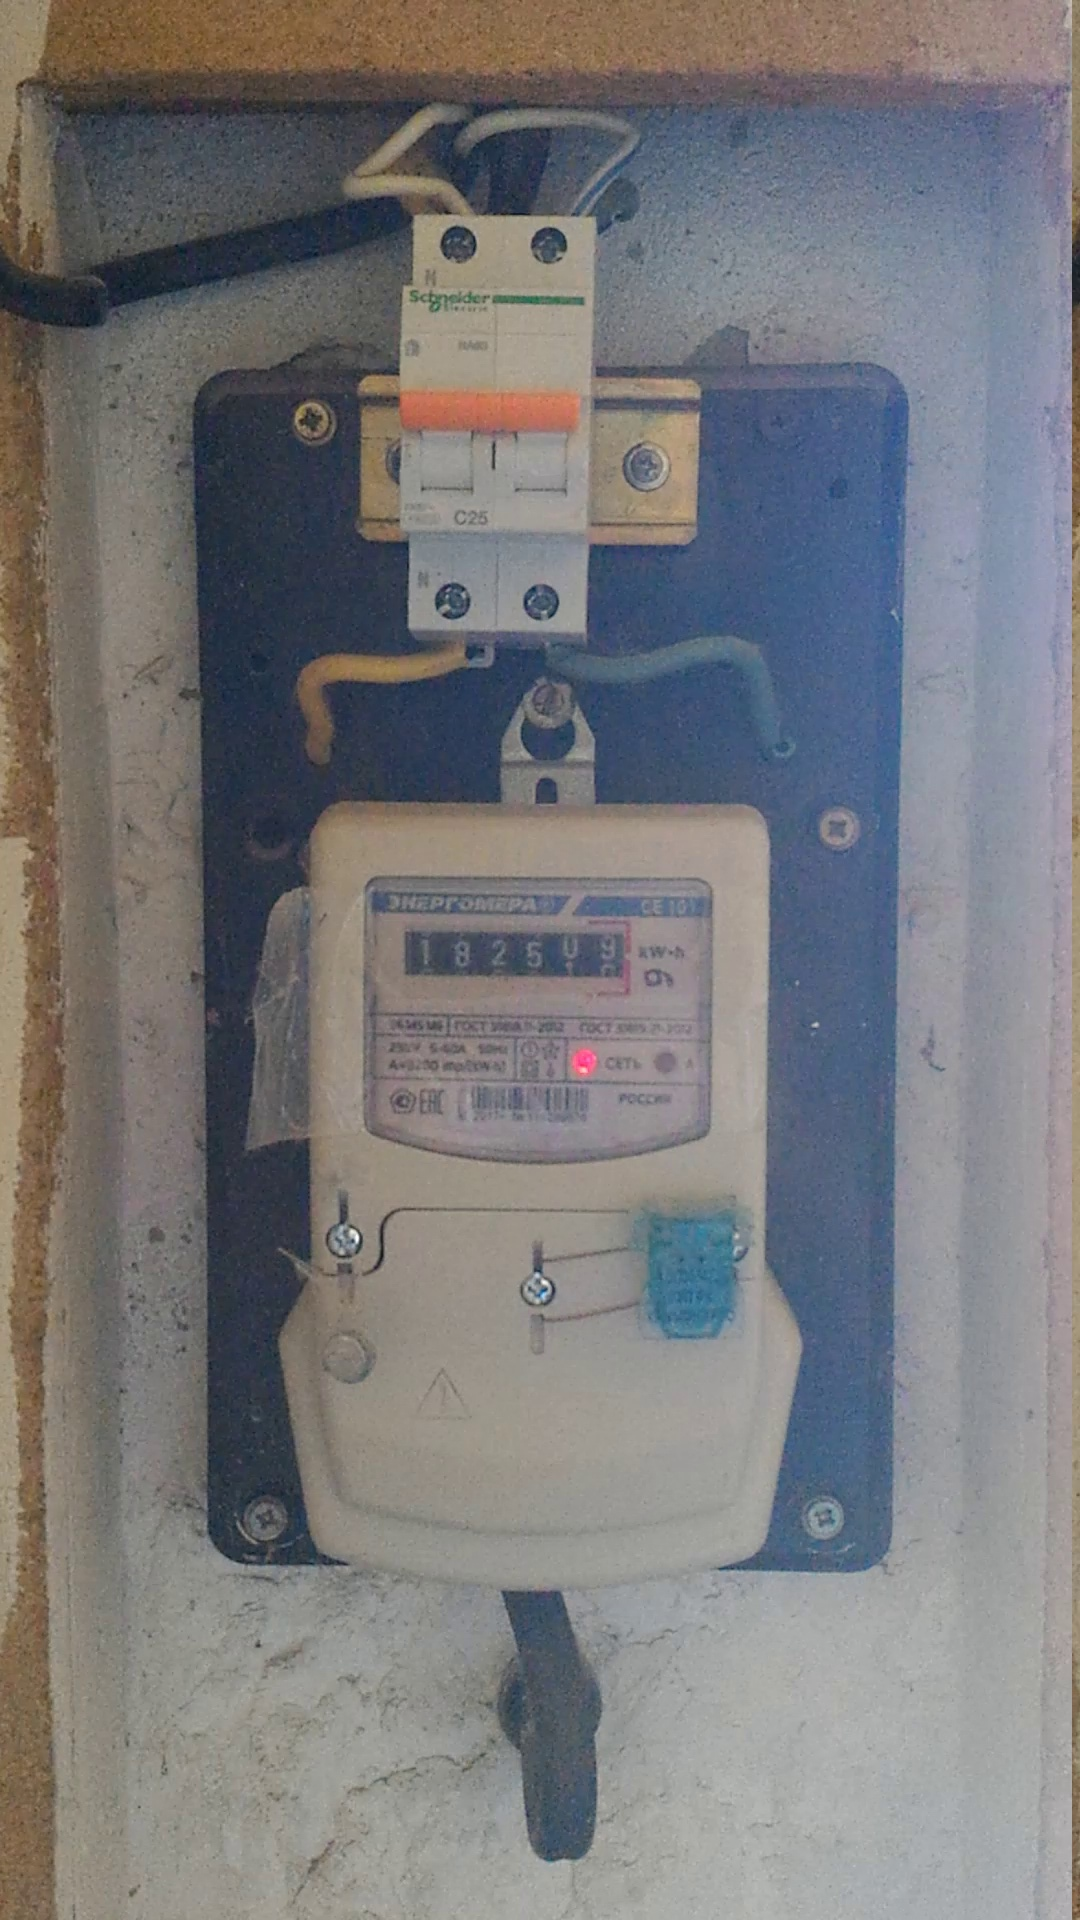counter: (301, 811, 786, 1569)
counter_screen: (402, 928, 628, 980)
